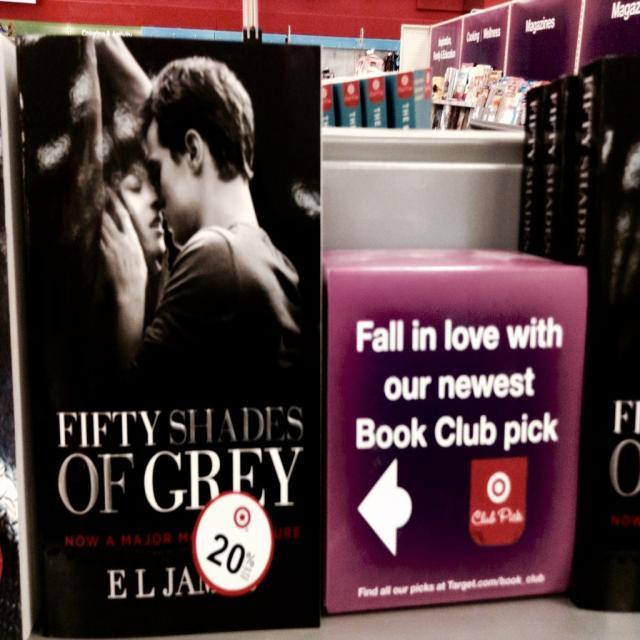book: (0, 39, 325, 640)
